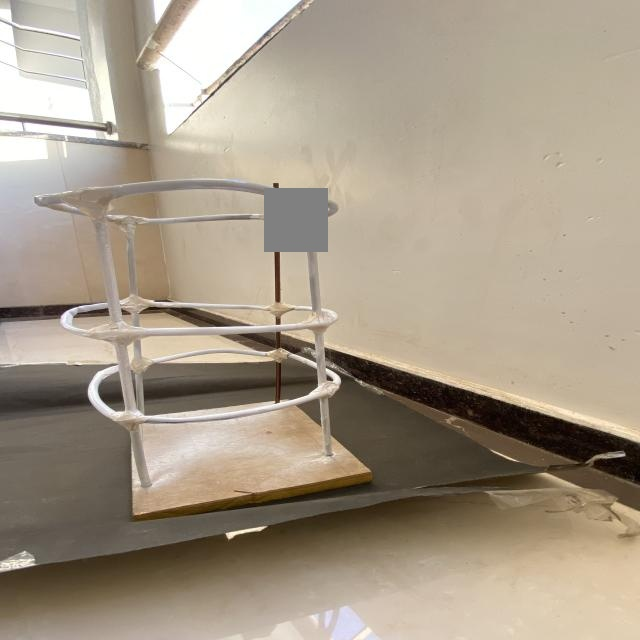silo: (37, 174, 364, 531)
